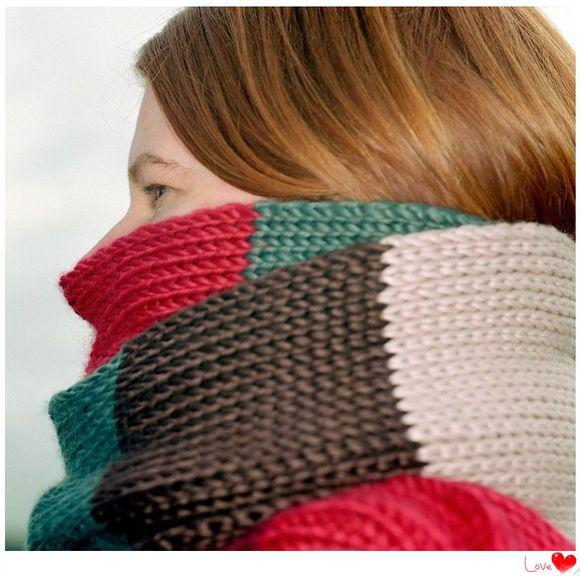WRONG: (63, 145, 349, 431)
